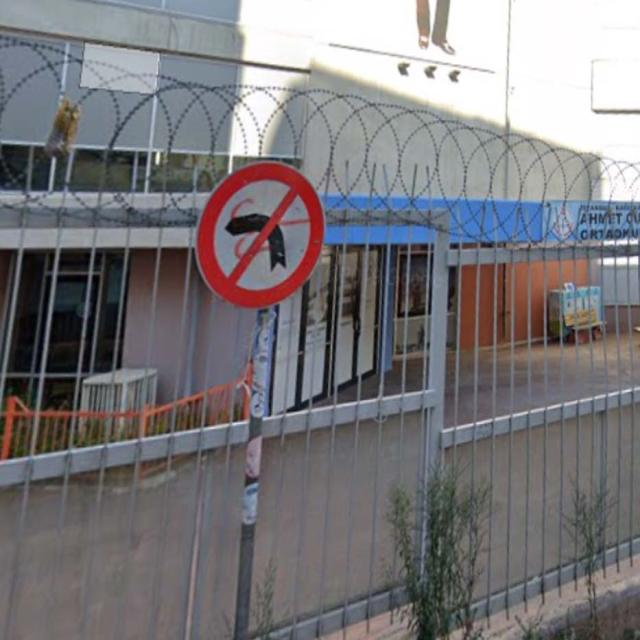soladonulmez: (204, 166, 322, 310)
